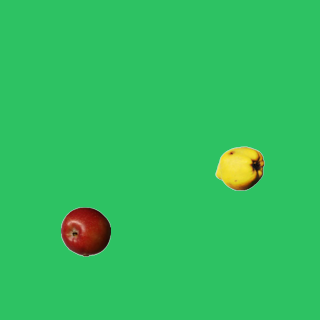Apple Braeburn: (60, 206, 110, 256)
Quince: (214, 143, 264, 193)
